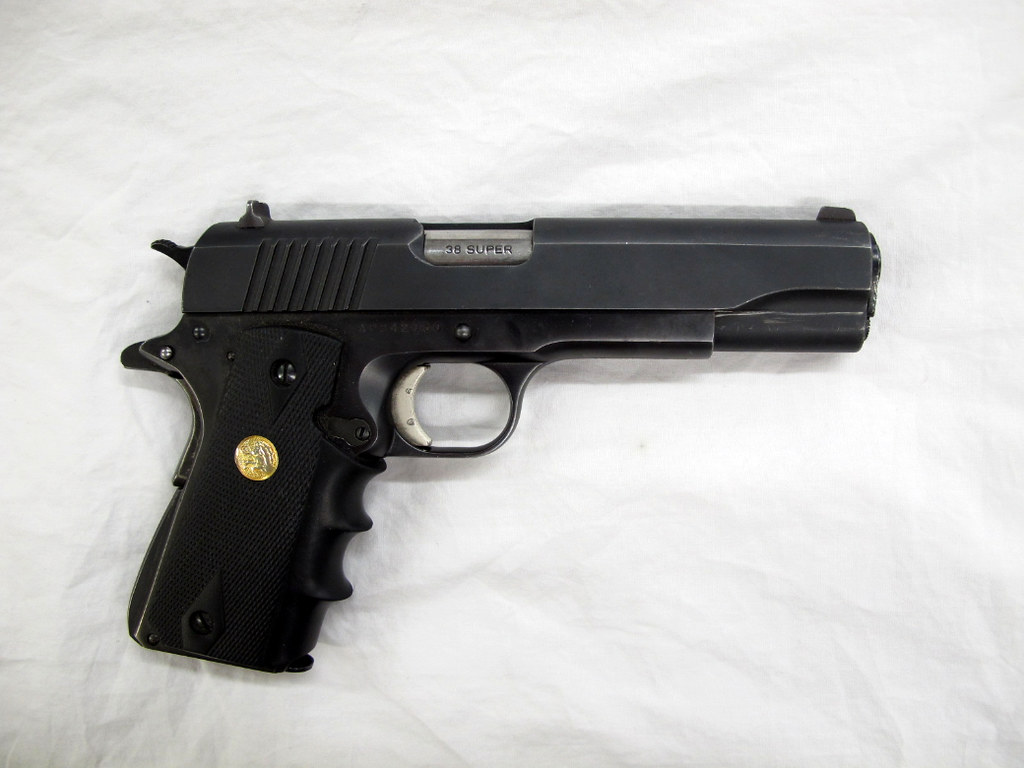gun: (112, 187, 896, 681)
